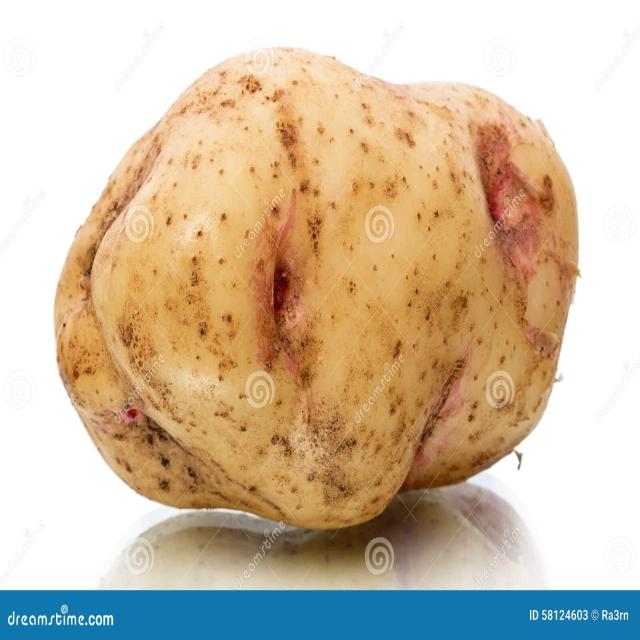Potato: (48, 42, 566, 550)
